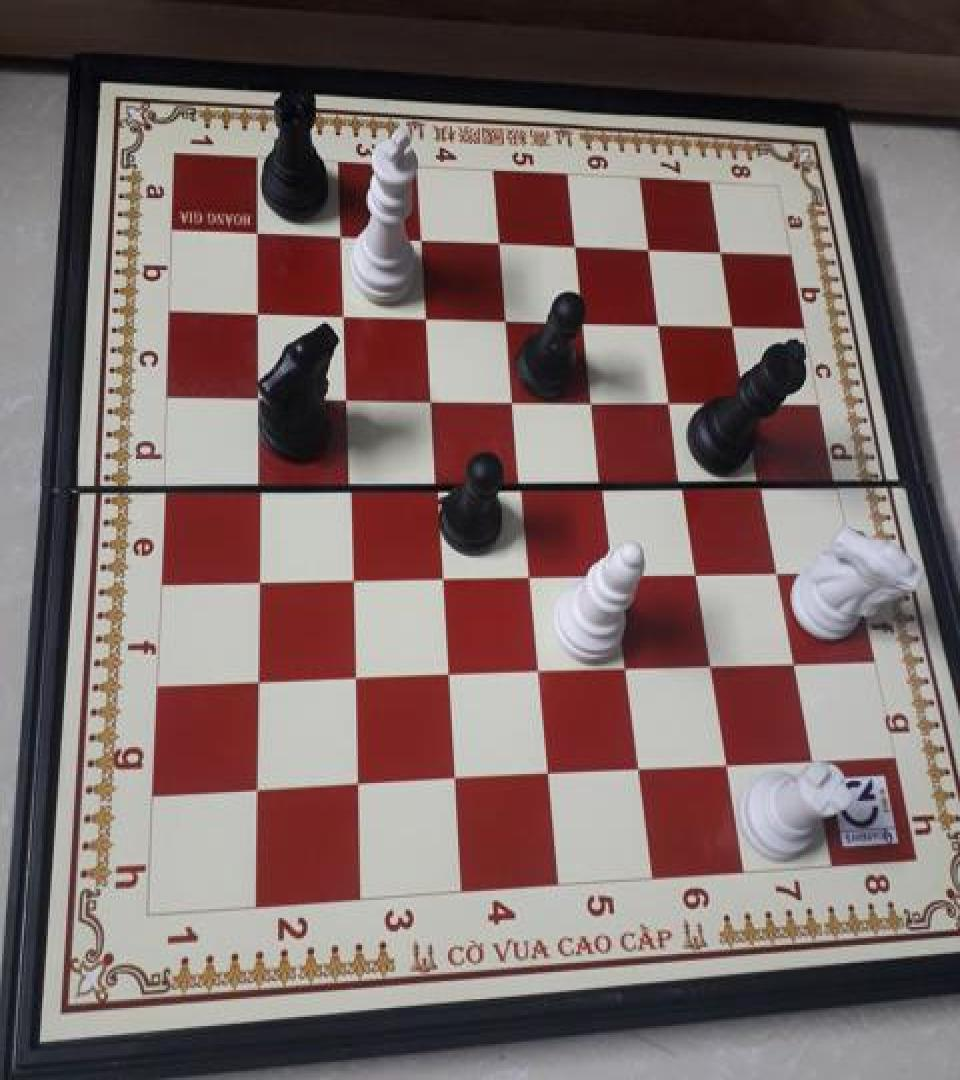xcorner: (762, 552, 794, 589), (778, 644, 810, 681), (521, 653, 553, 690), (337, 660, 369, 697), (437, 761, 469, 798), (707, 232, 739, 268), (635, 228, 667, 264), (560, 226, 592, 262), (484, 223, 516, 259), (405, 220, 437, 256), (324, 217, 356, 253), (242, 215, 274, 251), (720, 305, 752, 341), (645, 304, 677, 340), (569, 302, 601, 338), (490, 299, 522, 335), (410, 298, 442, 334), (327, 296, 359, 332), (242, 294, 274, 330), (733, 382, 765, 418), (657, 382, 689, 418), (578, 382, 610, 418), (497, 380, 529, 416), (414, 379, 446, 415), (329, 379, 361, 415), (241, 378, 273, 414), (747, 464, 779, 500), (669, 466, 701, 502), (588, 466, 620, 502), (505, 466, 537, 502), (419, 467, 451, 503), (332, 467, 364, 503), (241, 467, 273, 503), (681, 554, 713, 590), (598, 556, 630, 592), (513, 557, 545, 593), (425, 559, 457, 595), (334, 560, 366, 596), (241, 562, 273, 598), (695, 648, 727, 684), (609, 650, 641, 686), (431, 657, 463, 693), (241, 664, 273, 700), (795, 744, 827, 780), (709, 748, 741, 784), (621, 752, 653, 788), (530, 757, 562, 793), (340, 767, 372, 803), (240, 772, 272, 808)
